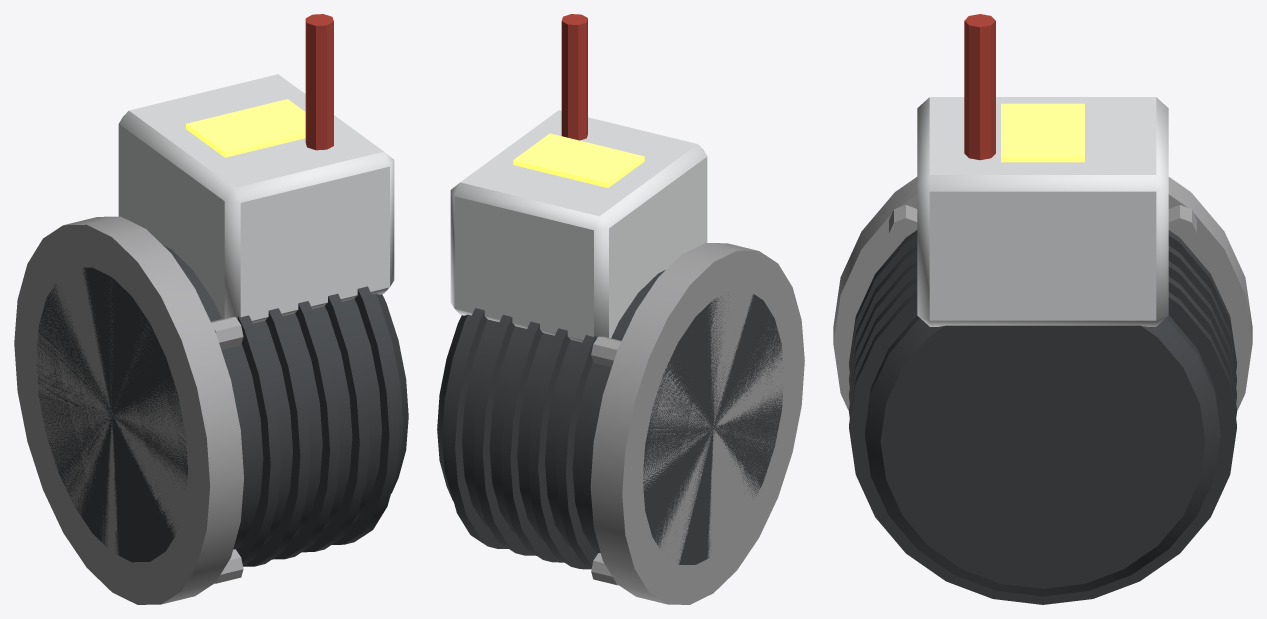
File: plough_auger_motor.glb
The picture shows the model from 3 angles, left to right: view 1: azimuth 30°, elevation 25°; view 2: azimuth 150°, elevation 25°; view 3: azimuth 270°, elevation 25°; orthographic projection. The views are drawn at different scales.
Parts seen in each view (by area): view 1: plough_auger_motor; view 2: plough_auger_motor; view 3: plough_auger_motor.
Boxes of the visible parts, <box> form: plough_auger_motor: <box>14,14,408,604</box>; plough_auger_motor: <box>437,14,804,604</box>; plough_auger_motor: <box>833,14,1252,604</box>.
Bounding box in the file's own units: 0.27 × 0.62 × 0.4.
